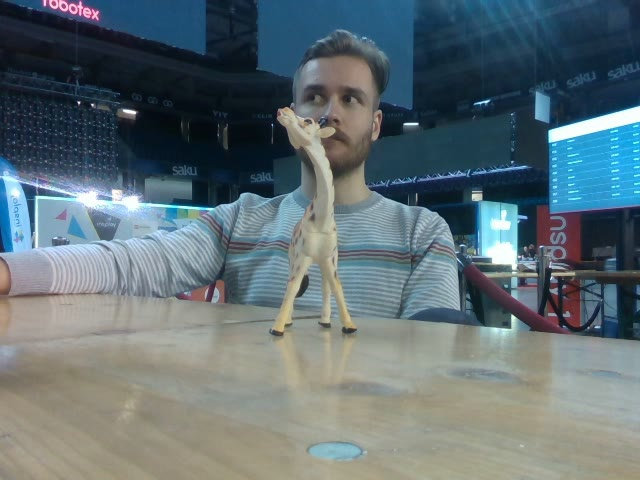toy: (267, 103, 356, 336)
